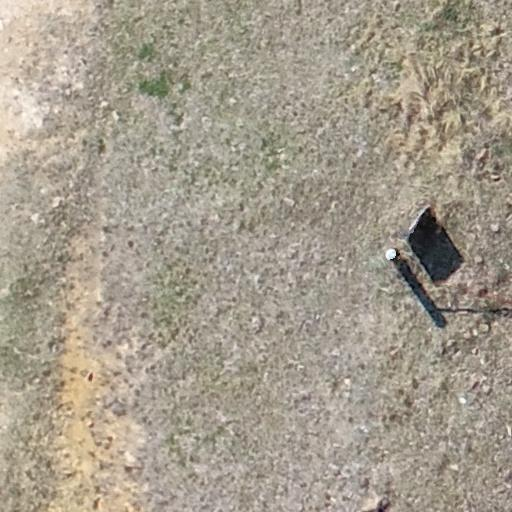stone: (467, 374, 480, 390), (477, 324, 493, 333), (476, 255, 486, 265), (490, 223, 500, 233), (482, 385, 492, 395)
